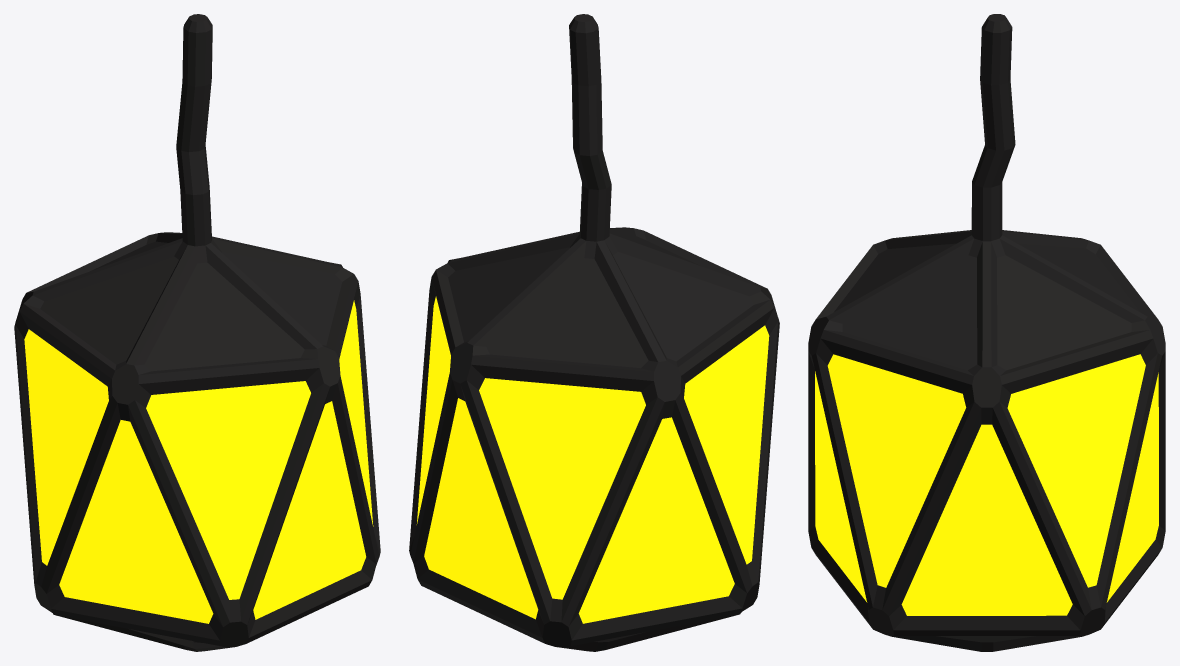
The model's file is Lamp.fbx.
The picture shows the model from 3 angles, left to right: view 1: azimuth 30°, elevation 25°; view 2: azimuth 150°, elevation 25°; view 3: azimuth 270°, elevation 25°; orthographic projection.
Parts seen in each view (by area): view 1: Icosphere; view 2: Icosphere; view 3: Icosphere.
Part boxes in pixels (<box>): Icosphere: <box>14,14,380,651</box>; Icosphere: <box>409,14,779,651</box>; Icosphere: <box>808,14,1165,651</box>.
Size of the model in its own units: 181 by 338 by 173.
